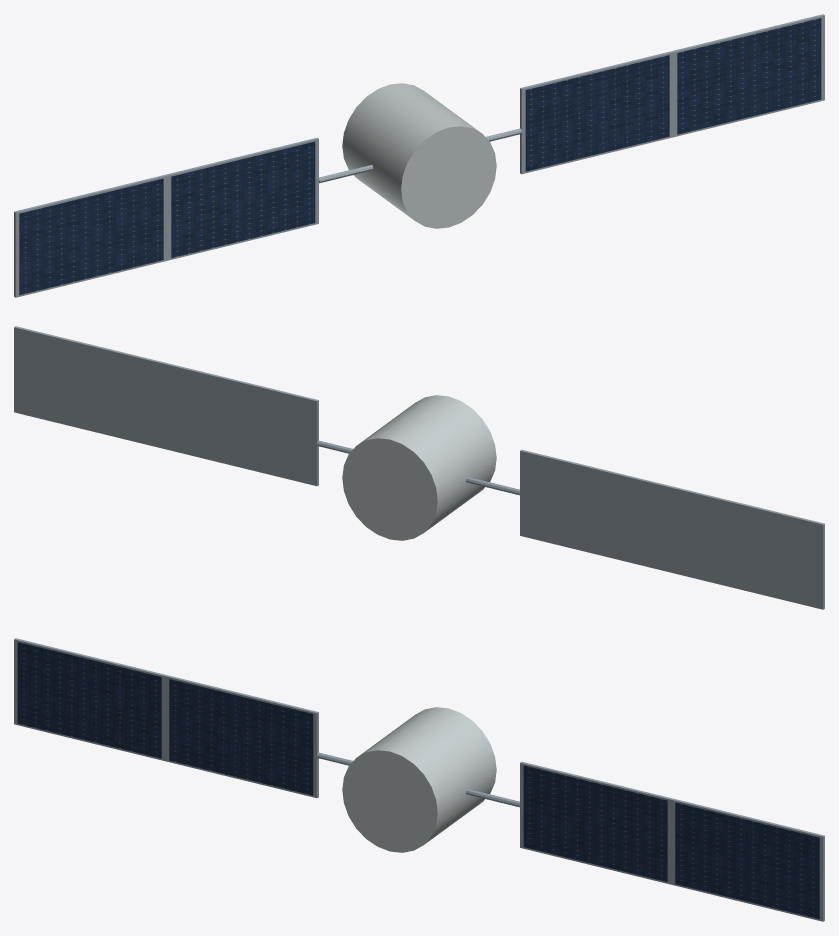
File: ref-sert-4327.glb
3 renders of one model, top to bottom at view 1: azimuth 30°, elevation 25°; view 2: azimuth 150°, elevation 25°; view 3: azimuth 330°, elevation 25°, orthographic.
Parts seen in each view (by area): view 1: Photovoltaic laminates (×4), Spacecraft body, Array frame (×4); view 2: Array frame (×4), Spacecraft body; view 3: Photovoltaic laminates (×4), Spacecraft body, Array frame (×4).
Part boxes in pixels (left/top/right/bottom): Photovoltaic laminates (×4): left=19, top=18, right=821, bottom=295; Spacecraft body: left=342, top=83, right=496, bottom=228; Array frame (×4): left=14, top=14, right=824, bottom=297; Array frame (×4): left=14, top=326, right=824, bottom=609; Spacecraft body: left=342, top=395, right=496, bottom=540; Photovoltaic laminates (×4): left=17, top=642, right=819, bottom=919; Spacecraft body: left=342, top=707, right=496, bottom=852; Array frame (×4): left=14, top=638, right=824, bottom=921.
Size of the model in its own units: 12.7 by 1.5 by 1.6.
Materials: 3 (1 with a texture image).
